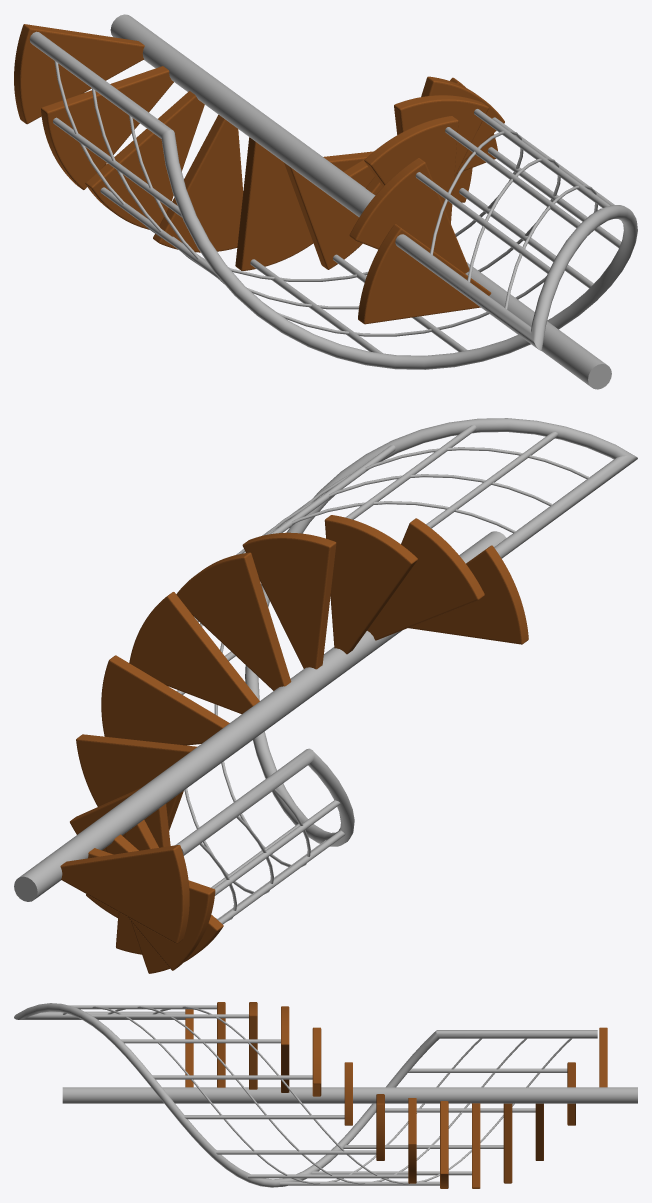
File: Spiral_Stairs_Oak_V1.obj
The picture shows the model from 3 angles, top to bottom: view 1: azimuth 30°, elevation 25°; view 2: azimuth 150°, elevation 25°; view 3: azimuth 270°, elevation 25°; orthographic projection. The views are drawn at different scales.
Parts seen in each view (by area): view 1: Spiral66Railing79, Spiral66CenterPole19, Spiral66Step281, Spiral66Step282, Spiral66Step285, Spiral66Step284, Spiral66Step294, Spiral66Step293, Spiral66Step283, Spiral66Step292, Spiral66Step286, Spiral66Step291 (+15 smaller); view 2: Spiral66Railing79, Spiral66CenterPole19, Spiral66Step291, Spiral66Step290, Spiral66Step281, Spiral66Step289, Spiral66Step292, Spiral66Step288, Spiral66Step293, Spiral66Step294, Spiral66Step287, Spiral66Step282 (+12 smaller); view 3: Spiral66CenterPole19, Spiral66Railing79, Spiral66Railing82, Spiral66Railing81, Spiral66Railing80, Spiral66Step284, Object259, Object260, Object258, Spiral66Step286, Object257, Object261 (+19 smaller).
Boxes of the visible parts, x1,y1,x2,y2 form: Spiral66Railing79: (29,31,637,369); Spiral66CenterPole19: (110,14,611,389); Spiral66Step281: (14,24,144,124); Spiral66Step282: (41,66,173,189); Spiral66Step285: (235,137,313,270); Spiral66Step284: (153,114,243,252); Spiral66Step294: (358,224,491,324); Spiral66Step293: (349,158,469,273); Spiral66Step283: (85,91,204,229); Spiral66Step292: (364,116,458,223); Spiral66Step286: (284,162,362,269); Spiral66Step291: (394,95,488,177); Spiral66Railing79: (175,418,637,855); Spiral66CenterPole19: (14,531,506,901); Spiral66Step291: (242,532,336,669); Spiral66Step290: (176,552,291,690); Spiral66Step281: (60,845,189,943); Spiral66Step289: (129,592,259,714); Spiral66Step292: (324,515,417,654); Spiral66Step288: (101,655,229,745); Spiral66Step293: (367,518,484,640); Spiral66Step294: (408,545,528,644); Spiral66Step287: (76,734,197,806); Spiral66Step282: (88,848,215,970); Spiral66CenterPole19: (62,1087,637,1103); Spiral66Railing79: (14,1003,597,1187); Spiral66Railing82: (153,1006,571,1184); Spiral66Railing81: (108,1006,526,1184); Spiral66Railing80: (63,1006,481,1184); Spiral66Step284: (503,1103,512,1183); Object259: (184,1115,344,1119); Object260: (152,1075,312,1079); Object258: (216,1150,376,1154); Spiral66Step286: (440,1101,448,1188); Object257: (248,1174,408,1178); Object261: (121,1039,280,1043).
Size of the model in its own units: 112 by 112 by 373.
